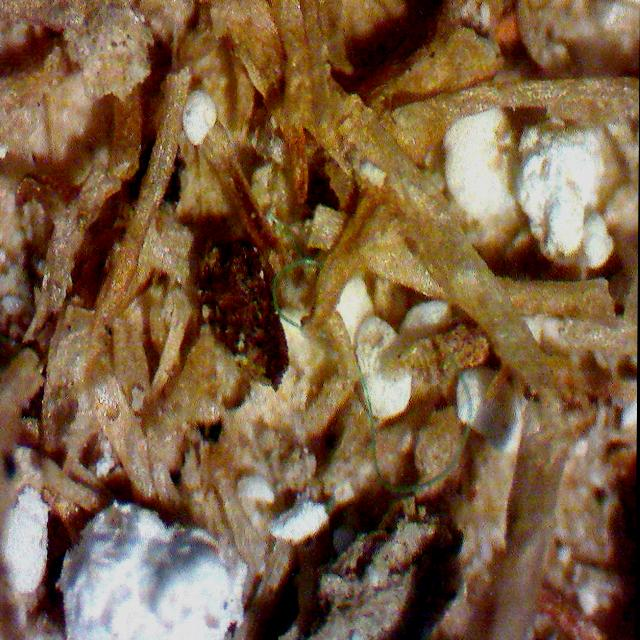microplastic: (271, 259, 473, 494)
